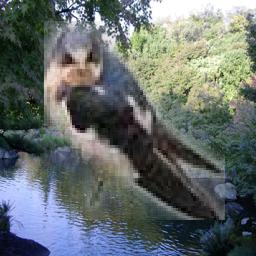Swallow: (45, 22, 226, 221)
